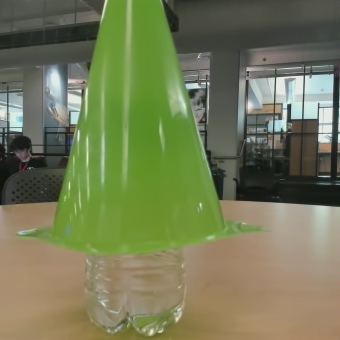Cone: (34, 1, 240, 231)
